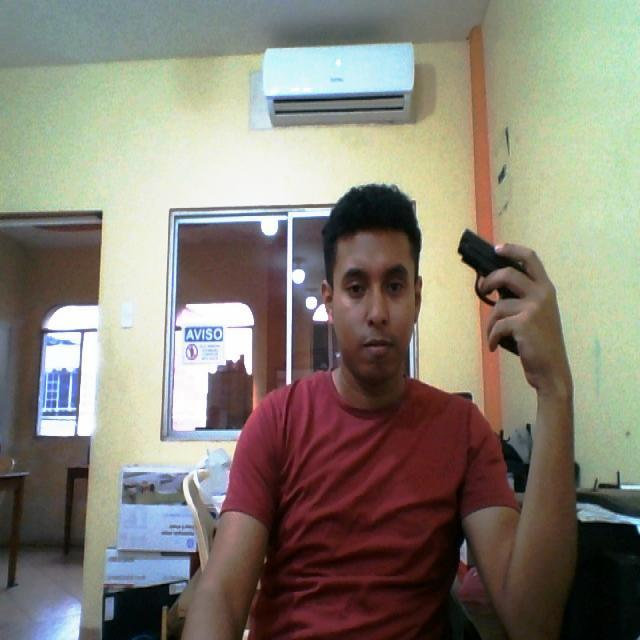Gun: (452, 223, 546, 352)
